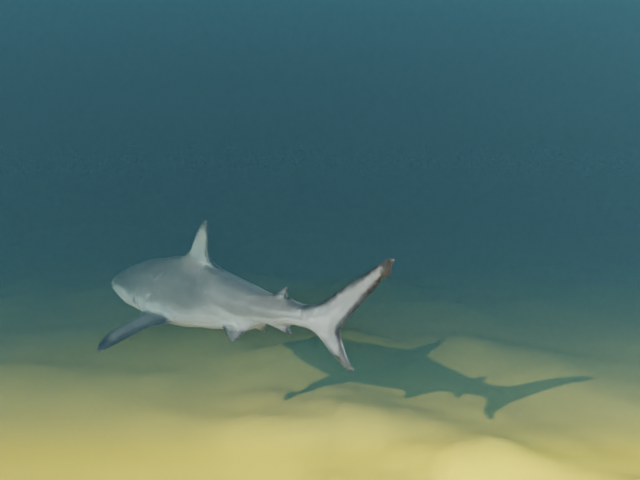Carribean Shark.001: (97, 220, 394, 371)
